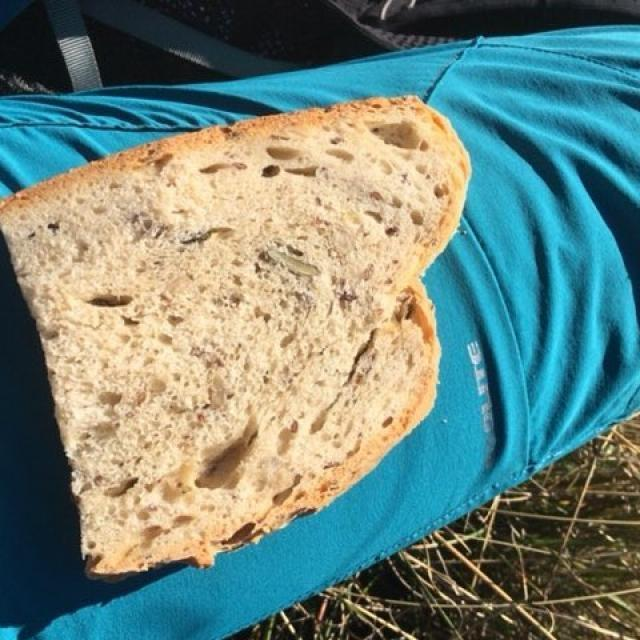bread: (14, 95, 463, 574)
